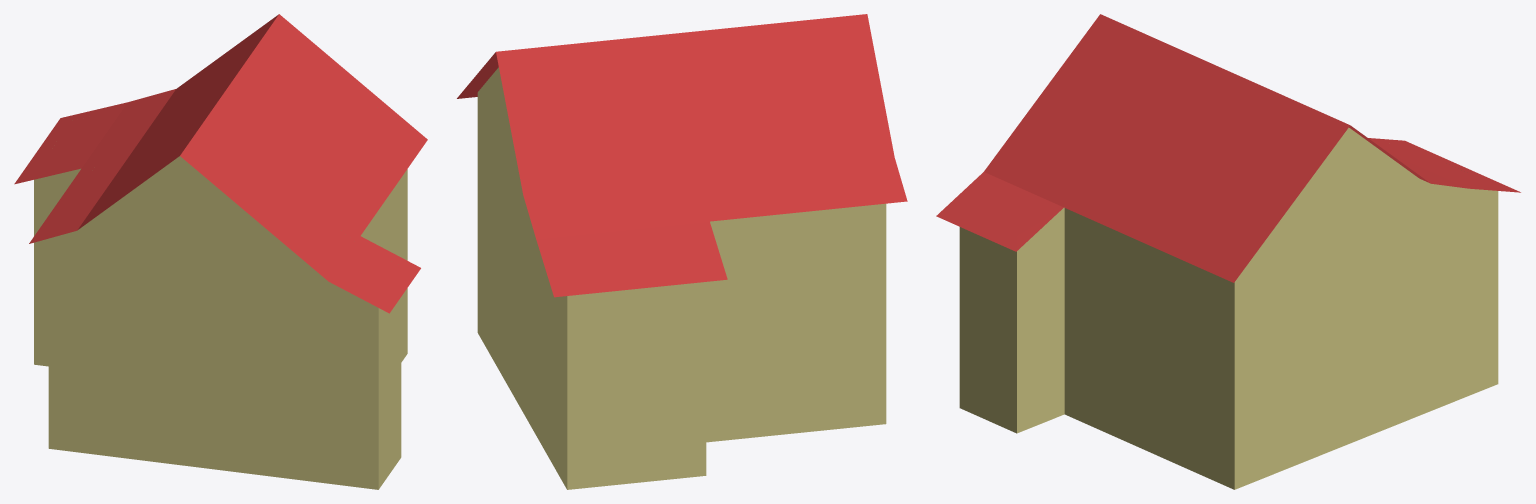
3 renders of one model, left to right at view 1: azimuth 30°, elevation 25°; view 2: azimuth 150°, elevation 25°; view 3: azimuth 270°, elevation 25°, orthographic. The views are drawn at different scales.
Size of the model in its own units: 14.5 by 17.46 by 10.78.
